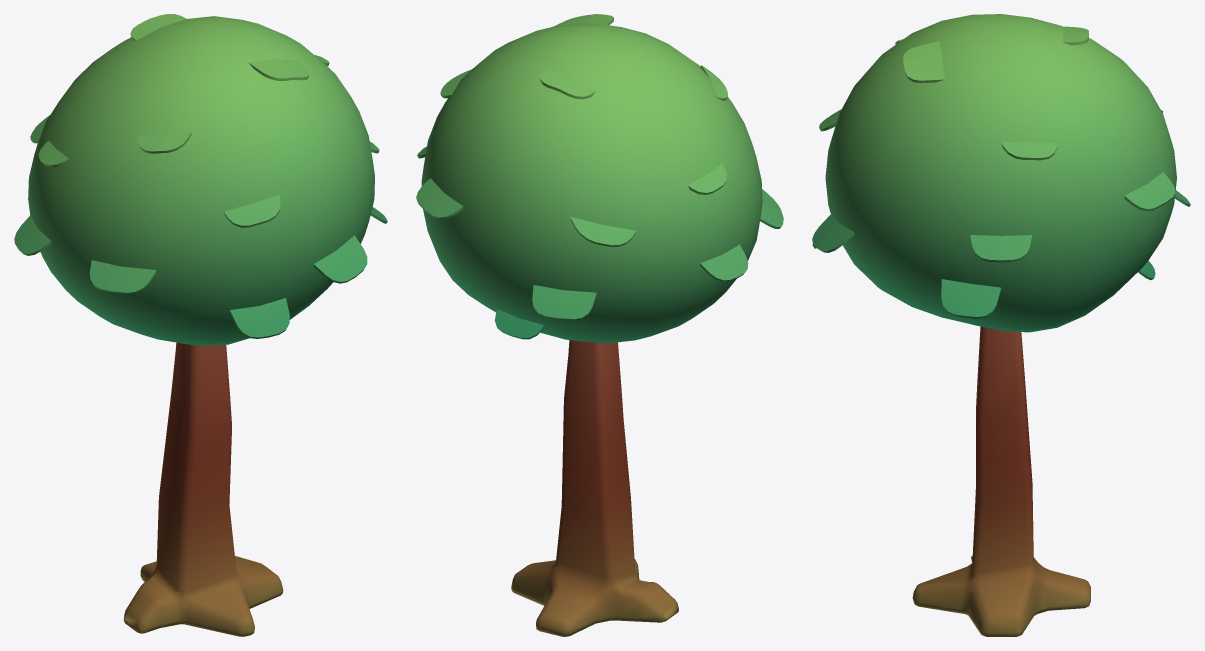
The model's file is Oak.fbx.
3 views of the same model, side by side, from view 1: azimuth 30°, elevation 25°; view 2: azimuth 150°, elevation 25°; view 3: azimuth 270°, elevation 25° (orthographic). The views are drawn at different scales.
Visible parts, largest first — view 1: Oak_leafs, Trunk05; view 2: Oak_leafs, Trunk05; view 3: Oak_leafs, Trunk05.
Boxes of the visible parts, x1,y1,x2,y2 form: Oak_leafs: [14, 14, 387, 345]; Trunk05: [123, 342, 283, 636]; Oak_leafs: [416, 14, 783, 343]; Trunk05: [511, 340, 678, 636]; Oak_leafs: [812, 14, 1190, 332]; Trunk05: [912, 326, 1090, 636].
Size of the model in its own units: 2.83 by 4.58 by 2.71.
